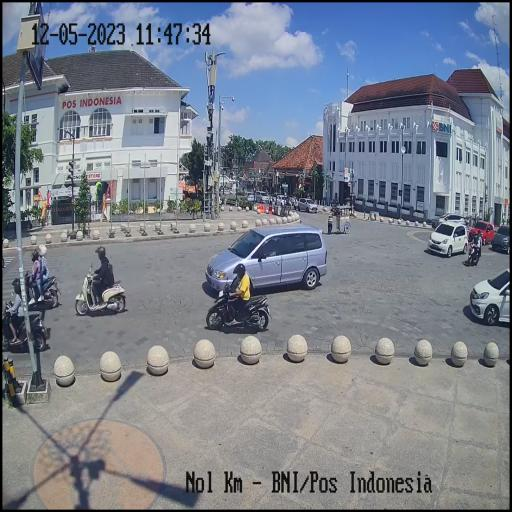mobil: (207, 218, 329, 300), (428, 219, 468, 257), (468, 219, 494, 247), (494, 222, 510, 258)
motor: (206, 276, 274, 335), (73, 263, 129, 319), (0, 295, 46, 360), (20, 266, 59, 314)
